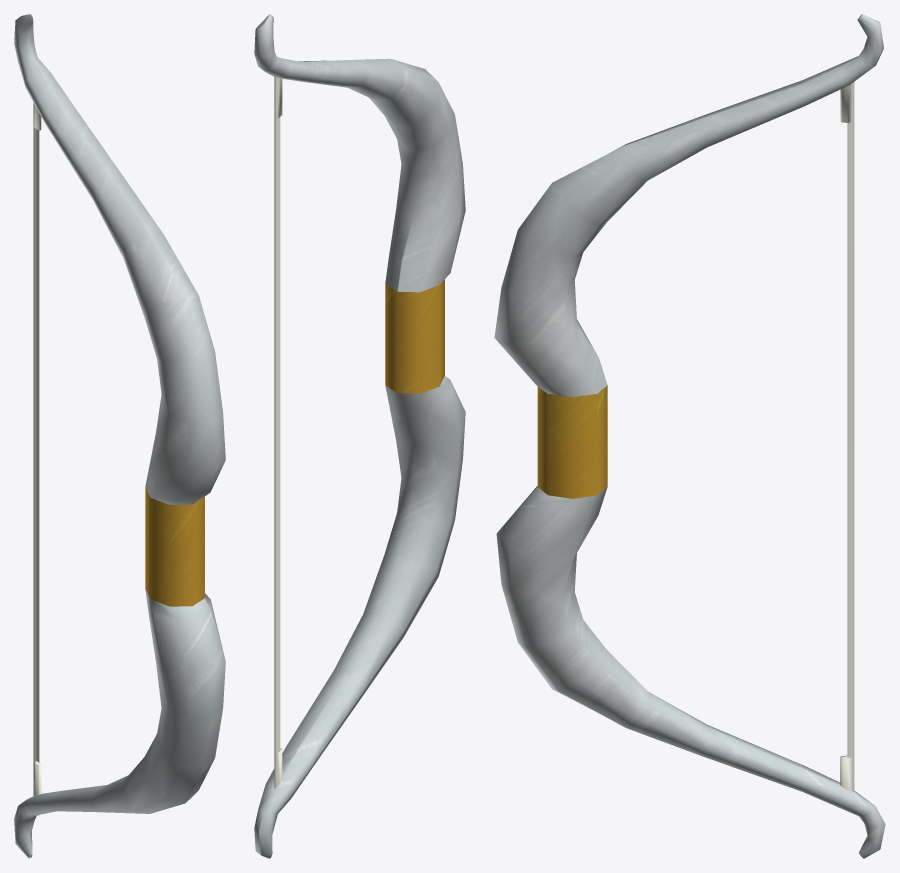
Rendered from BowSS.fbx.
3 views of the same model, side by side, from view 1: azimuth 30°, elevation 25°; view 2: azimuth 150°, elevation 25°; view 3: azimuth 270°, elevation 25° (orthographic).
Parts seen in each view (by area): view 1: Bow SS; view 2: Bow SS; view 3: Bow SS.
Boxes of the visible parts, <box> form: Bow SS: <box>14,14,225,858</box>; Bow SS: <box>254,14,465,858</box>; Bow SS: <box>494,14,885,858</box>.
Size of the model in its own units: 0.1187 by 1.67 by 0.7028.
